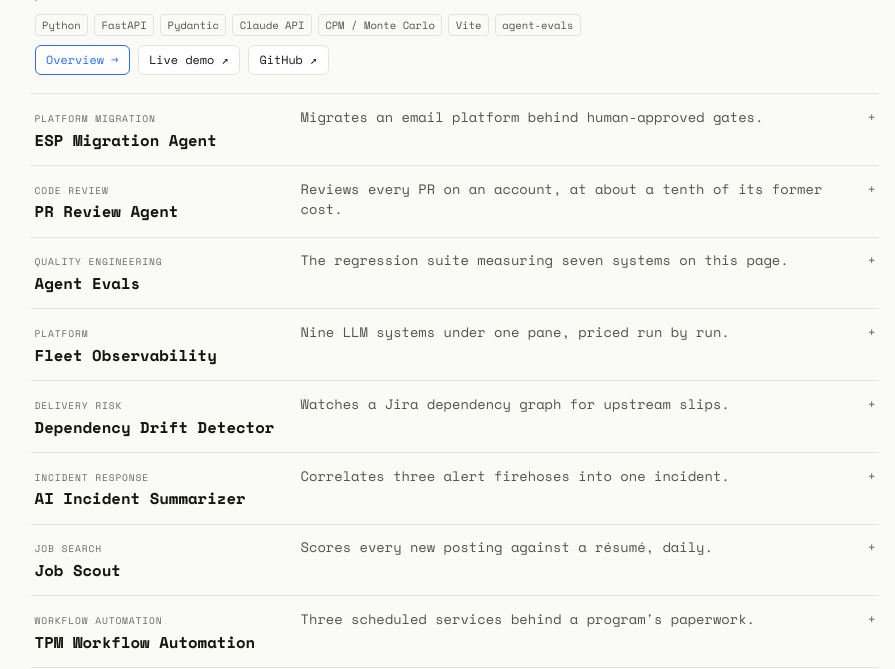
ProjectIndex › ranks the fleet bars by spend and labels every value
The image size is (895, 669).
(page scrolled)
Click the button "Fleet Observability": (455,345) [31,309,879,380]
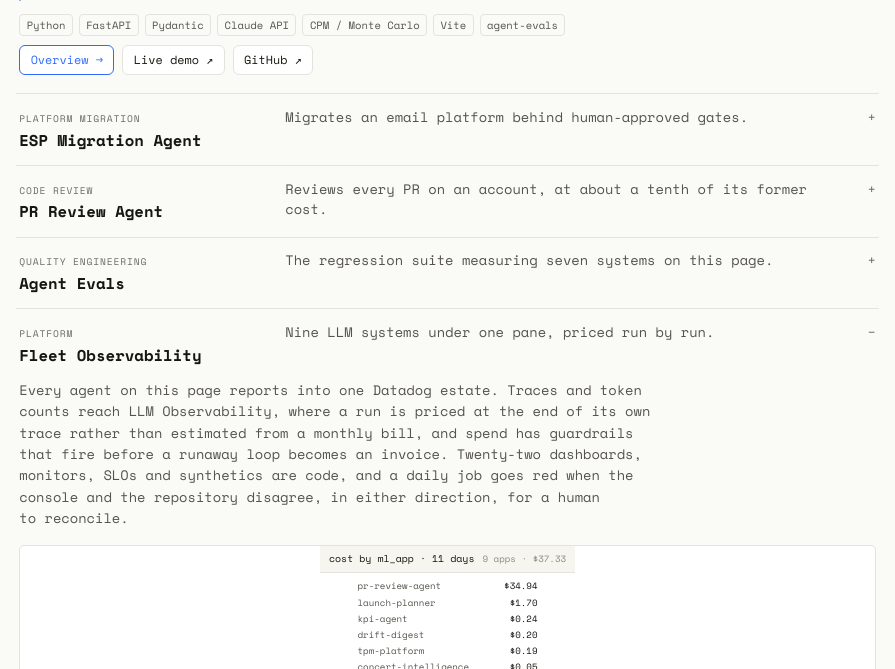
Expected: the text with class "mf-name" reads "pr-review-agent", [358,580,441,592]
Expected: the text with class "mf-name" reads "launch-planner", [358,596,436,609]
Expected: the text "$34.94" is shown, [504,580,538,592]
